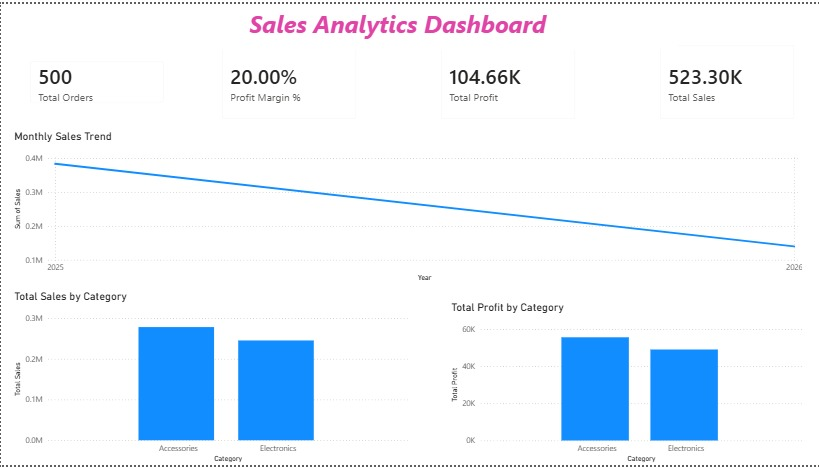

What the dashboard file says about the page in this screenshot:
{"tool":"powerbi","page":{"name":"Page 3","canvas":[1280,720],"ordinal":0},"visuals":[{"type":"cardVisual","fields":{"Data":["sales_analytics sales.Total Orders"]},"box":[28.6,72.2,243.6,99.1],"z":0},{"type":"cardVisual","fields":{"Data":["sales_analytics sales.Total Profit"]},"box":[670.2,47,244,150],"z":1},{"type":"cardVisual","fields":{"Data":["sales_analytics sales.Total Sales"]},"box":[1012.9,47,244,150],"z":2},{"type":"cardVisual","fields":{"Data":["sales_analytics sales.Profit Margin %"]},"box":[327.6,47,244,150],"z":3},{"type":"lineChart","title":"Monthly Sales Trend","fields":{"Category":["sales_analytics sales.Order_Date.Variation.Date Hierarchy.Year","sales_analytics sales.Order_Date.Variation.Date Hierarchy.Quarter","sales_analytics sales.Order_Date.Variation.Date Hierarchy.Month","sales_analytics sales.Order_Date.Variation.Date Hierarchy.Day"],"Y":["Sum(sales_analytics sales.Sales)"]},"box":[15.1,196.5,1241.4,241.9],"z":4},{"type":"clusteredColumnChart","fields":{"Category":["sales_analytics sales.Category"],"Y":["sales_analytics sales.Total Sales"]},"box":[15.1,446.8,624.9,273.8],"z":5},{"type":"clusteredColumnChart","fields":{"Category":["sales_analytics sales.Category"],"Y":["sales_analytics sales.Total Profit"]},"box":[698.8,463.6,557.7,257],"z":6},{"type":"textbox","box":[181.4,0,876.9,70.6],"z":7}]}

Visuals, with their boxes in screenshot pixels (x1, y1, x2, y2), scaled from the page's 1280x720 canvas onto the 819x467 screenshot:
cardVisual - sales_analytics sales.Total Orders: bbox=(18, 47, 174, 111)
cardVisual - sales_analytics sales.Total Profit: bbox=(429, 30, 585, 128)
cardVisual - sales_analytics sales.Total Sales: bbox=(648, 30, 804, 128)
cardVisual - sales_analytics sales.Profit Margin %: bbox=(210, 30, 366, 128)
"Monthly Sales Trend" lineChart: bbox=(10, 127, 804, 284)
clusteredColumnChart - sales_analytics sales.Category x sales_analytics sales.Total Sales: bbox=(10, 290, 410, 466)
clusteredColumnChart - sales_analytics sales.Category x sales_analytics sales.Total Profit: bbox=(447, 301, 804, 466)
textbox: bbox=(116, 0, 677, 46)
